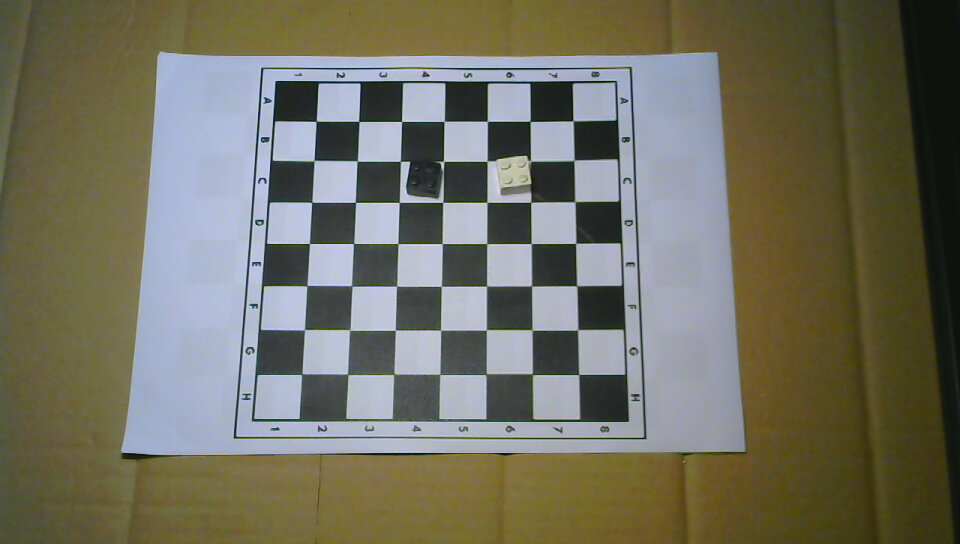bp: (406, 156, 443, 199)
wp: (495, 154, 534, 197)
